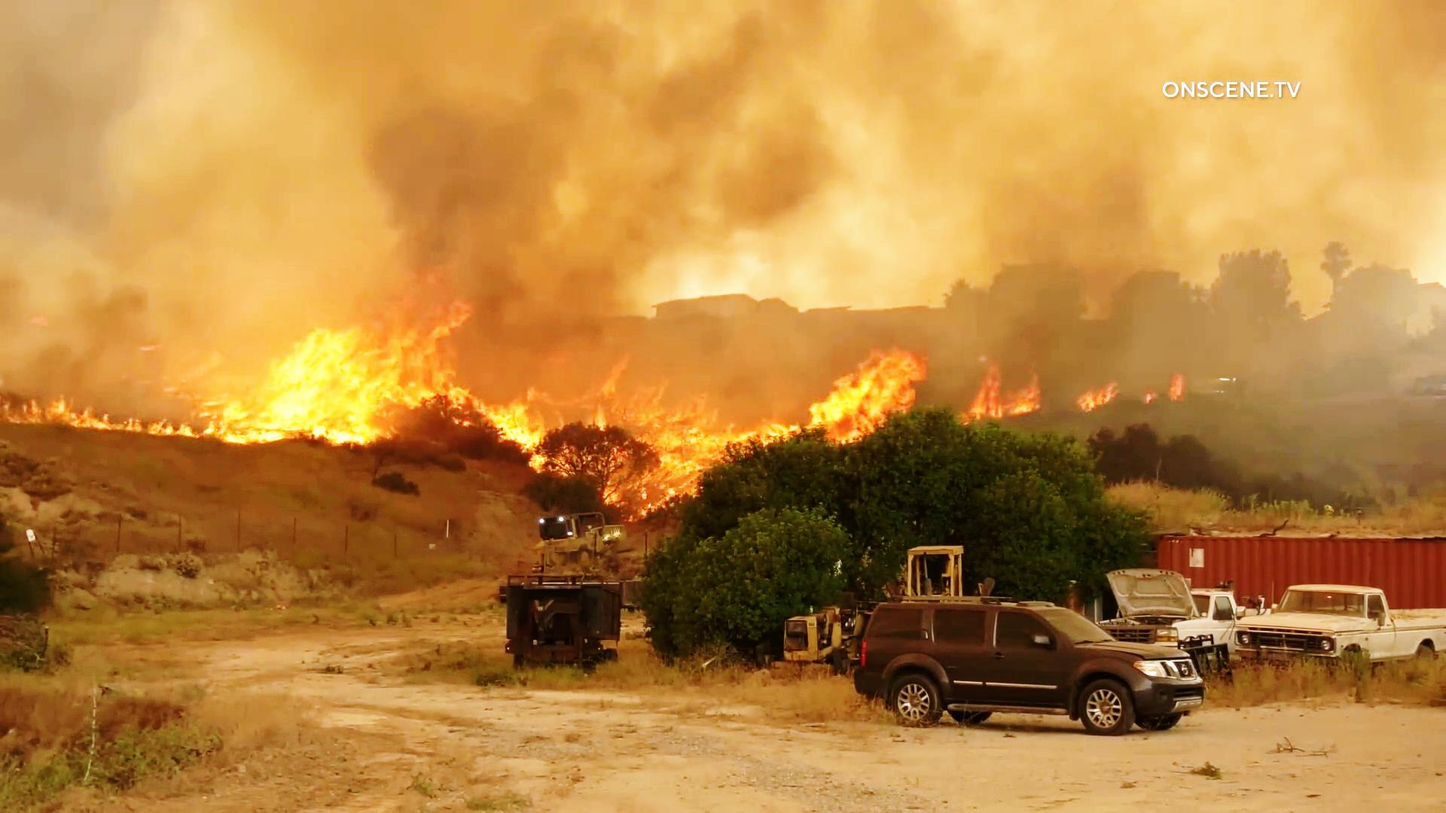fire: (167, 285, 418, 448), (807, 324, 938, 438)
smoke: (396, 40, 784, 264)
